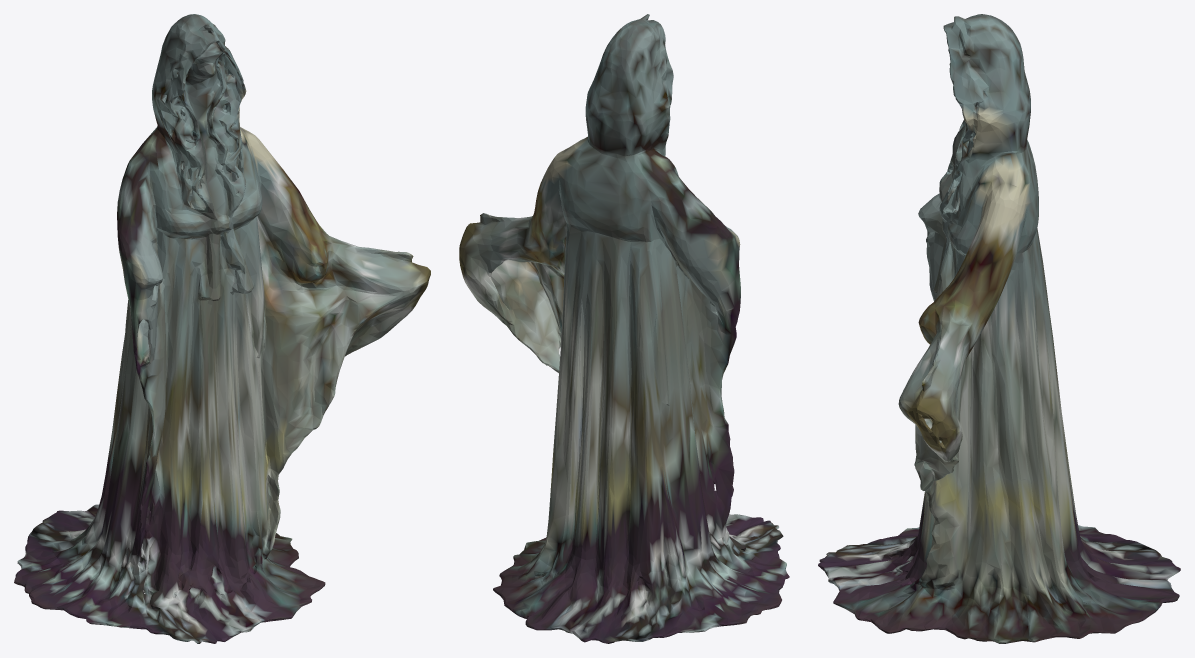
Rendered from elementalKing.glb.
3 views of the same model, side by side, from view 1: azimuth 30°, elevation 25°; view 2: azimuth 150°, elevation 25°; view 3: azimuth 270°, elevation 25° (orthographic). The views are drawn at different scales.
Visible parts, largest first — view 1: world; view 2: world; view 3: world.
Part boxes in pixels (x1,y1,x2,y2): world: (14, 14, 430, 643); world: (459, 14, 789, 643); world: (818, 14, 1180, 643).
Bounding box in the file's own units: 0.6753 × 1 × 0.5696.
